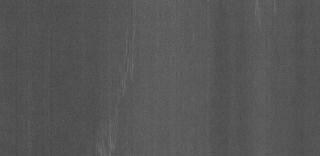silk spot: (112, 33, 142, 99)
